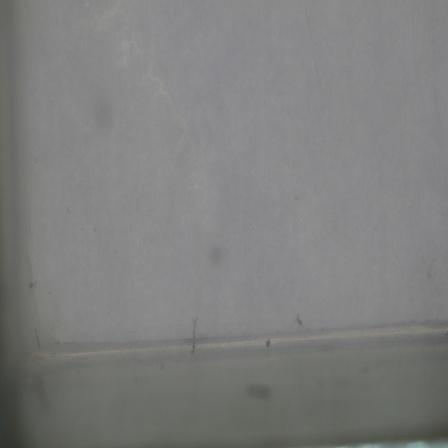Jentik-Nyamuk: (186, 314, 201, 361)
